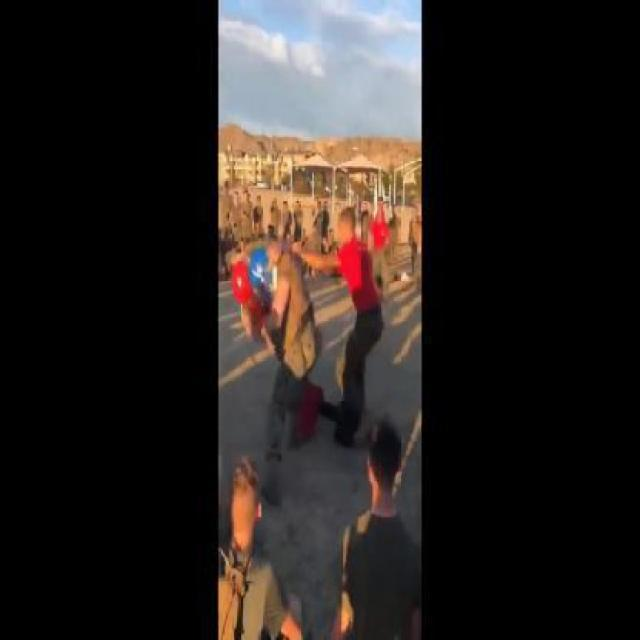fight: (230, 239, 328, 433)
